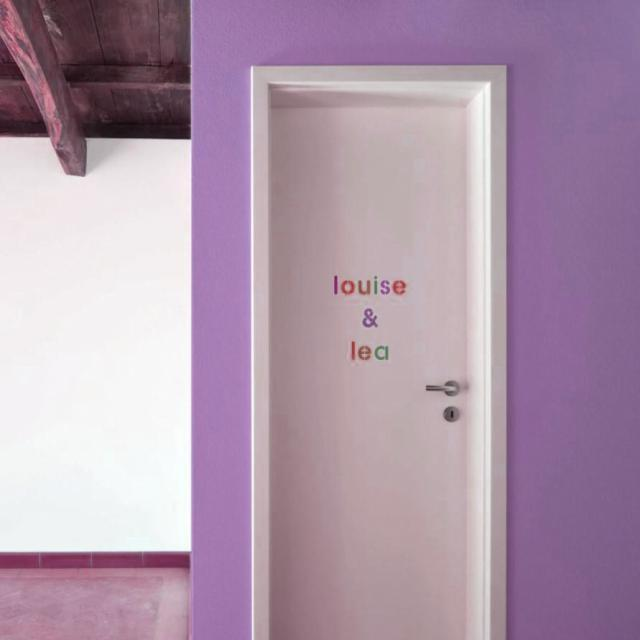door: (239, 55, 515, 640)
